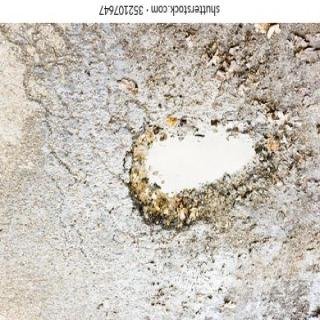pothole: (128, 117, 263, 230)
